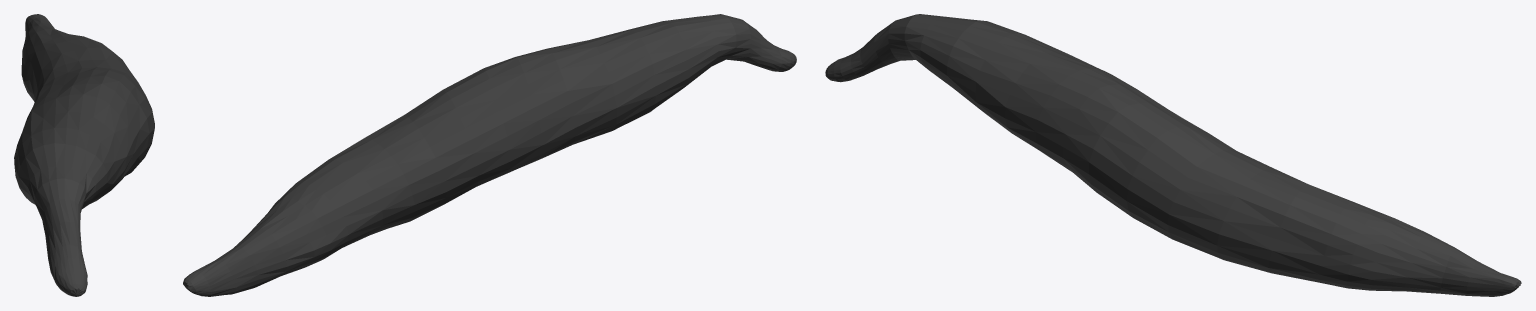
The model's file is ExtenCarpRadialis_1.glb.
3 views of the same model, side by side, from view 1: azimuth 30°, elevation 25°; view 2: azimuth 150°, elevation 25°; view 3: azimuth 270°, elevation 25° (orthographic). The views are drawn at different scales.
Parts seen in each view (by area): view 1: ExtenCarpRadialis_1; view 2: ExtenCarpRadialis_1; view 3: ExtenCarpRadialis_1.
Boxes of the visible parts, x1,y1,x2,y2 form: ExtenCarpRadialis_1: [14, 14, 154, 296]; ExtenCarpRadialis_1: [183, 14, 796, 296]; ExtenCarpRadialis_1: [825, 14, 1521, 296].
Bounding box in the file's own units: 0.0108 × 0.00526 × 0.0204.
1 material, 1 textured.
